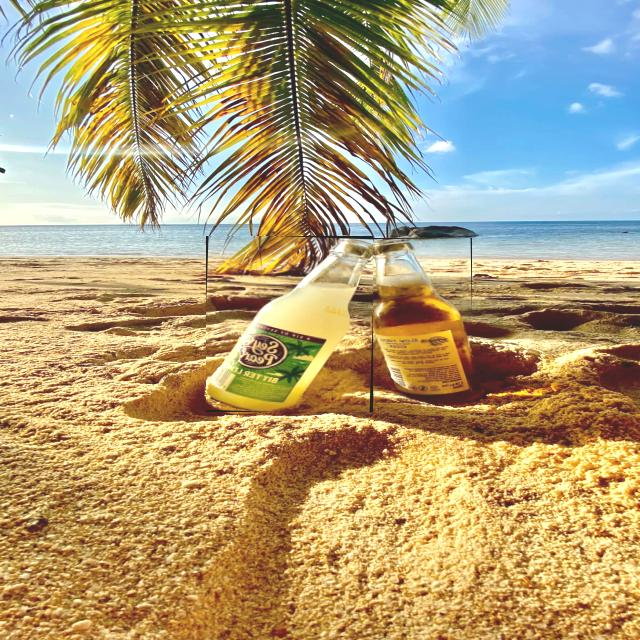Bottle: (206, 237, 371, 412), (371, 239, 470, 402)
